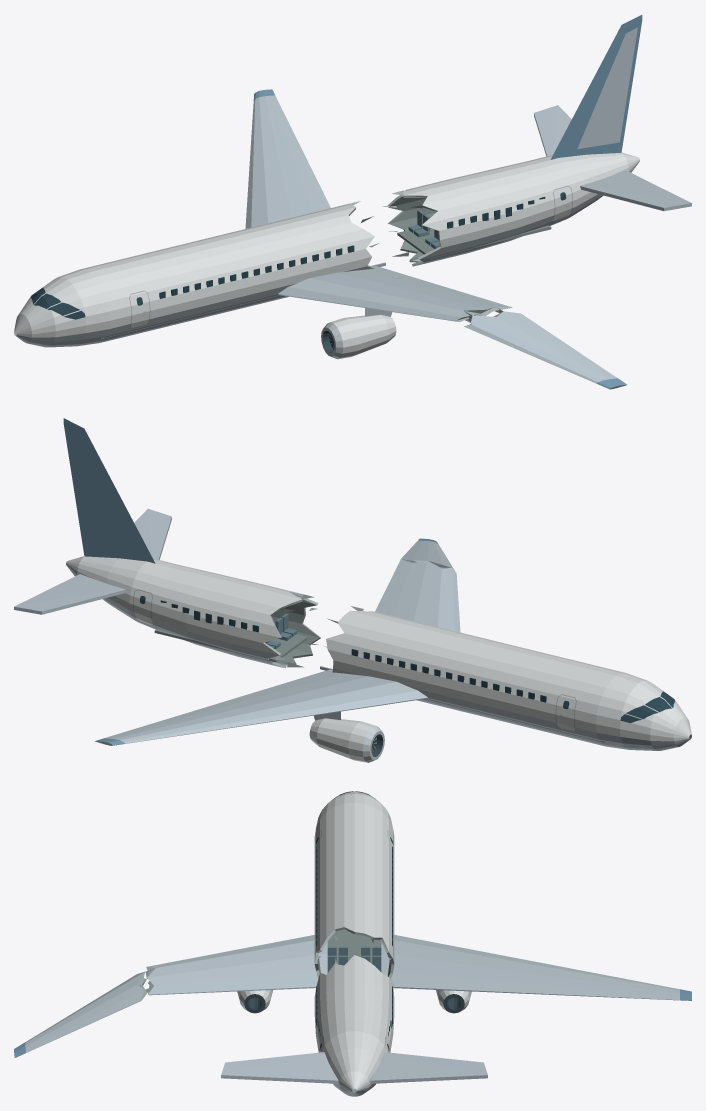
Rendered from escape-from-island.glb.
3 renders of one model, top to bottom at view 1: azimuth 30°, elevation 25°; view 2: azimuth 150°, elevation 25°; view 3: azimuth 270°, elevation 25°, orthographic.
Parts seen in each view (by area): view 1: Ivory fuselage, Wing aluminum, Lower hull, Tail blue, Window glass, Cabin interior, Torn metal; view 2: Ivory fuselage, Wing aluminum, Tail blue, Lower hull, Window glass, Cabin interior, Torn metal; view 3: Wing aluminum, Ivory fuselage, Cabin interior, Torn metal, Seats, Engine intake, Window glass.
Part boxes in pixels (x1,y1,x2,y2): Ivory fuselage: (14,152,639,359); Wing aluminum: (143,27,691,383); Lower hull: (14,162,638,348); Tail blue: (253,15,642,389); Window glass: (31,192,566,319); Cabin interior: (100,196,551,338); Torn metal: (129,185,626,389); Ivory fuselage: (66,556,691,762); Wing aluminum: (14,508,562,743); Tail blue: (63,418,438,745); Lower hull: (66,562,691,752); Window glass: (139,596,674,722); Cabin interior: (154,595,605,742); Torn metal: (95,559,576,745); Wing aluminum: (25,852,679,1083); Ivory fuselage: (237,791,471,1090); Cabin interior: (317,929,391,976); Torn metal: (137,830,394,1050); Seats: (327,946,381,972); Engine intake: (244,994,464,1013); Window glass: (316,791,393,1050).
Bounding box in the file's own units: 36.2 × 12.16 × 34.05.
